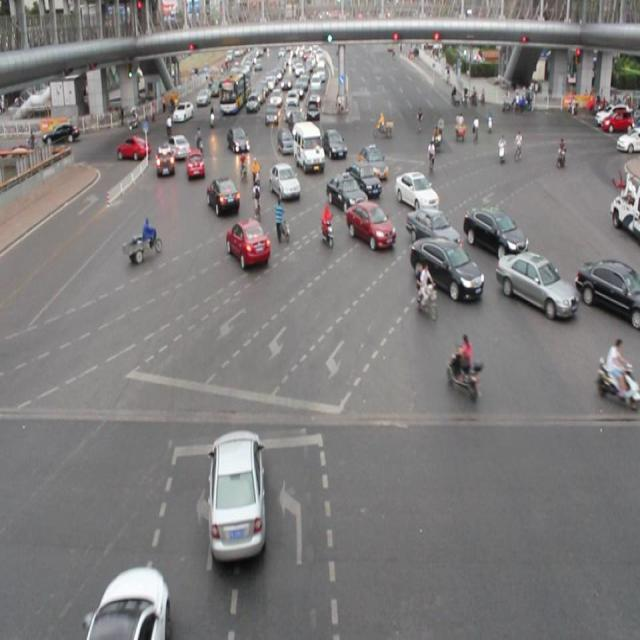BigCar: (217, 64, 252, 122)
car: (208, 420, 270, 554), (90, 557, 167, 640), (498, 248, 577, 315), (576, 241, 640, 322), (414, 239, 480, 300), (222, 212, 270, 268), (466, 201, 522, 249), (353, 194, 396, 255), (391, 165, 437, 210), (322, 164, 362, 214), (290, 125, 325, 177), (416, 209, 455, 251), (600, 97, 634, 138), (270, 158, 299, 204), (37, 117, 79, 148), (358, 138, 390, 175), (120, 130, 156, 162), (210, 172, 240, 210), (155, 138, 175, 186), (325, 123, 349, 160), (228, 129, 254, 158), (271, 117, 291, 148), (185, 148, 207, 176)
